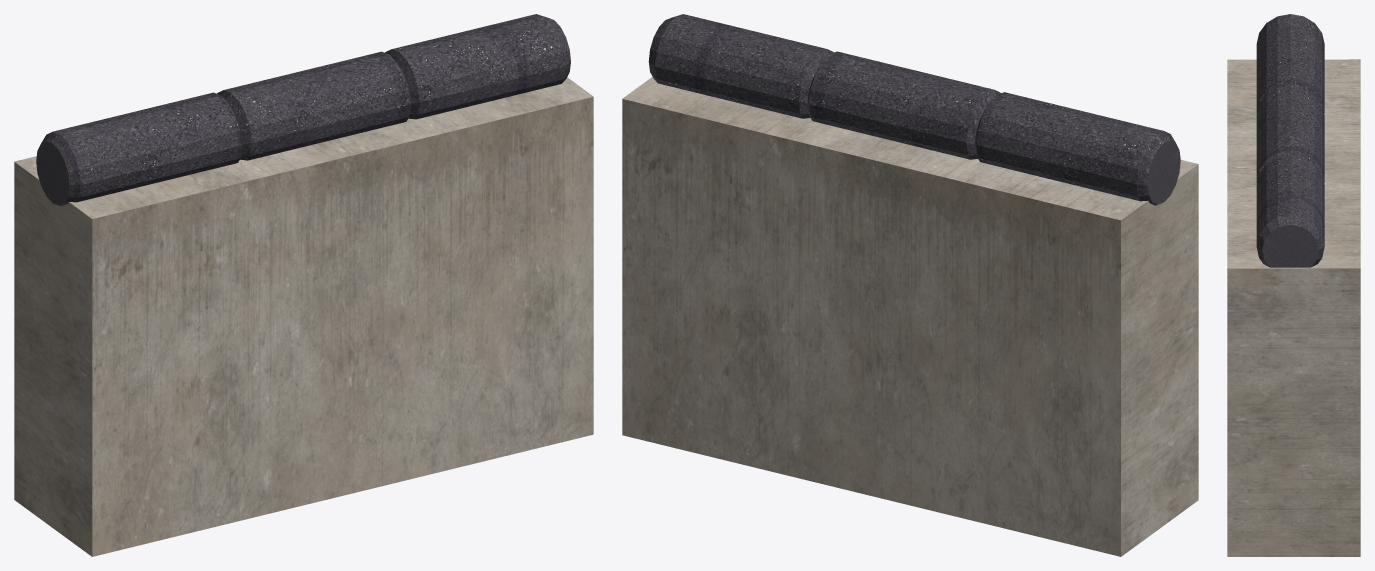
The model's file is SM_R_MiddleRoof_3.fbx.
3 views of the same model, side by side, from view 1: azimuth 30°, elevation 25°; view 2: azimuth 150°, elevation 25°; view 3: azimuth 270°, elevation 25° (orthographic). The views are drawn at different scales.
Visible parts, largest first — view 1: SM_R_MiddleRoof_3; view 2: SM_R_MiddleRoof_3; view 3: SM_R_MiddleRoof_3.
Part boxes in pixels (<box>): SM_R_MiddleRoof_3: <box>14,14,593,556</box>; SM_R_MiddleRoof_3: <box>622,14,1198,556</box>; SM_R_MiddleRoof_3: <box>1227,14,1360,556</box>.
Bounding box in the file's own units: 123 × 33.04 × 92.01.
Materials: 2 (2 with a texture image).
